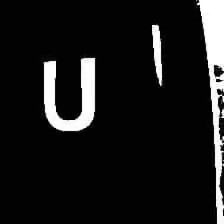LTR_U: (35, 52, 100, 136)
